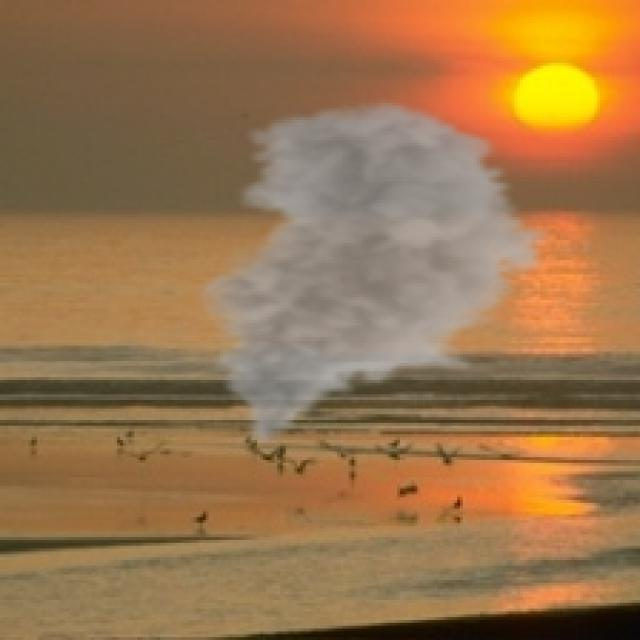smoke: (189, 97, 557, 449)
